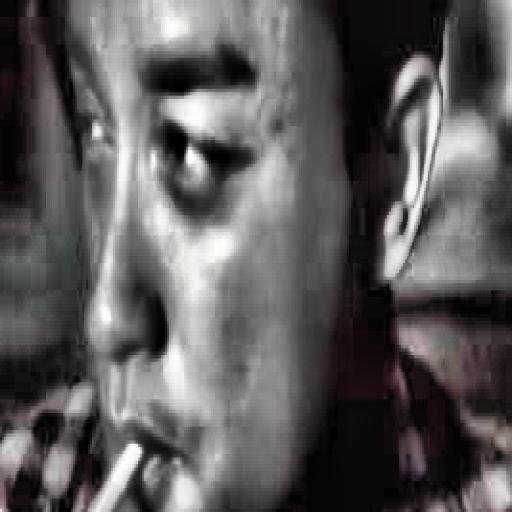Merokok: (87, 444, 146, 512)
Rokok: (0, 0, 512, 512)
